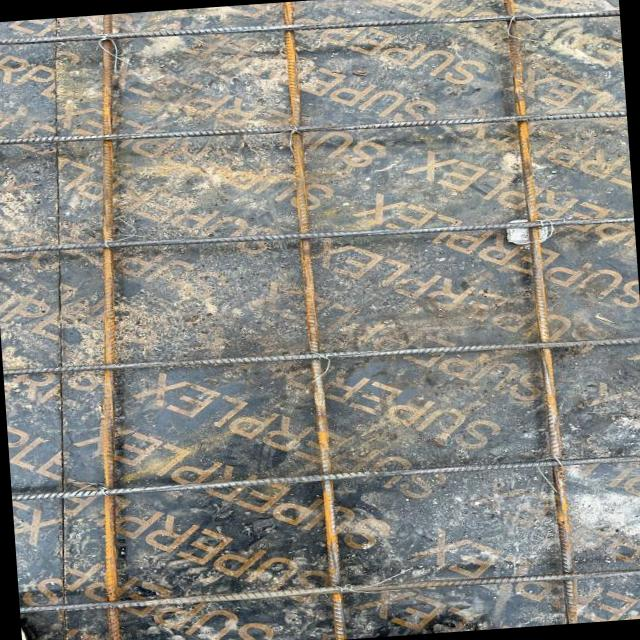ribbed bar: (60, 13, 158, 640), (499, 0, 579, 624), (276, 1, 346, 640), (2, 322, 640, 388), (0, 94, 625, 161), (0, 202, 633, 266), (19, 561, 640, 621), (0, 0, 618, 60), (11, 449, 640, 507)
